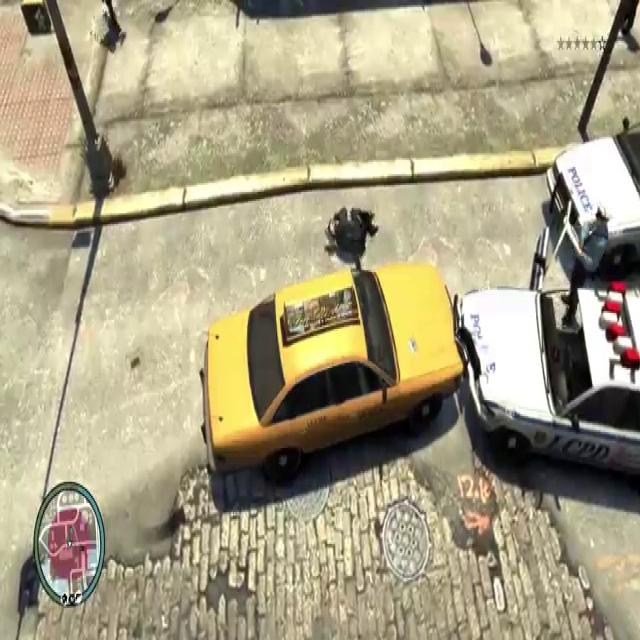moderate: (192, 240, 640, 494)
